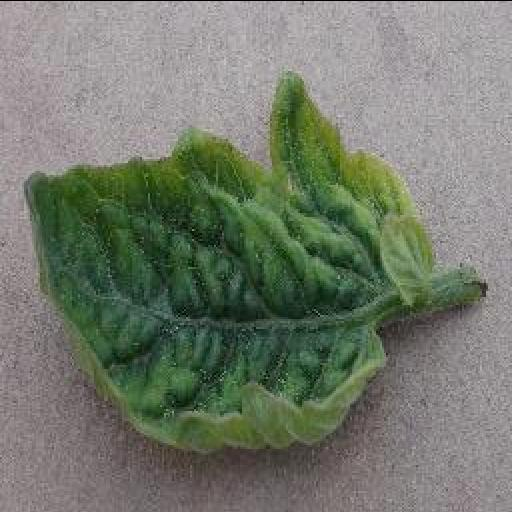disease_tomato: (20, 70, 438, 456)
